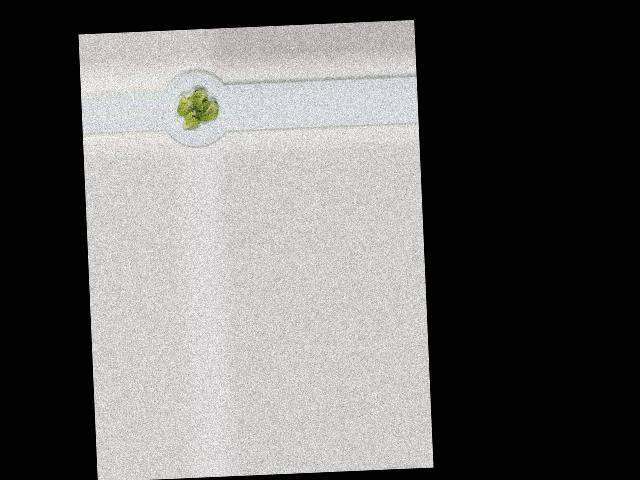lettuce: (176, 86, 223, 131)
